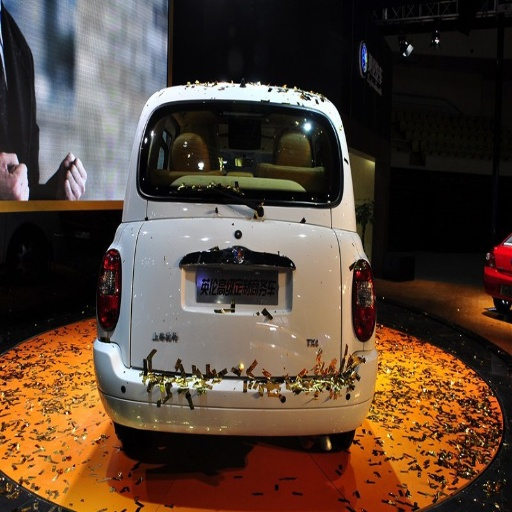back_bumper: (94, 344, 368, 443)
